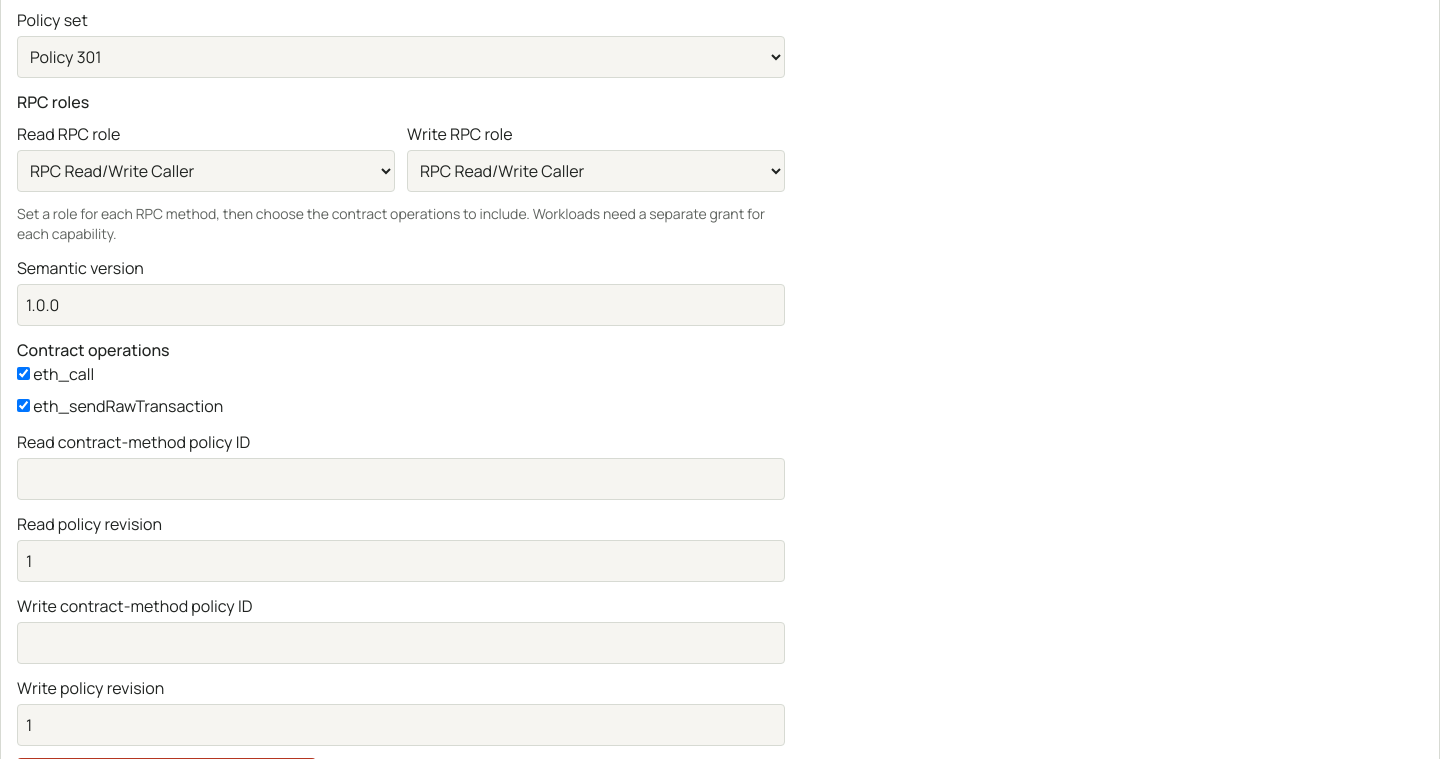
Scenario: creates a eth_call policy without fields for the unselected method
(page scrolled)
Click the checkbox labelled "eth_sendRawTransaction".
click(24, 406)  # box [17, 399, 30, 412]
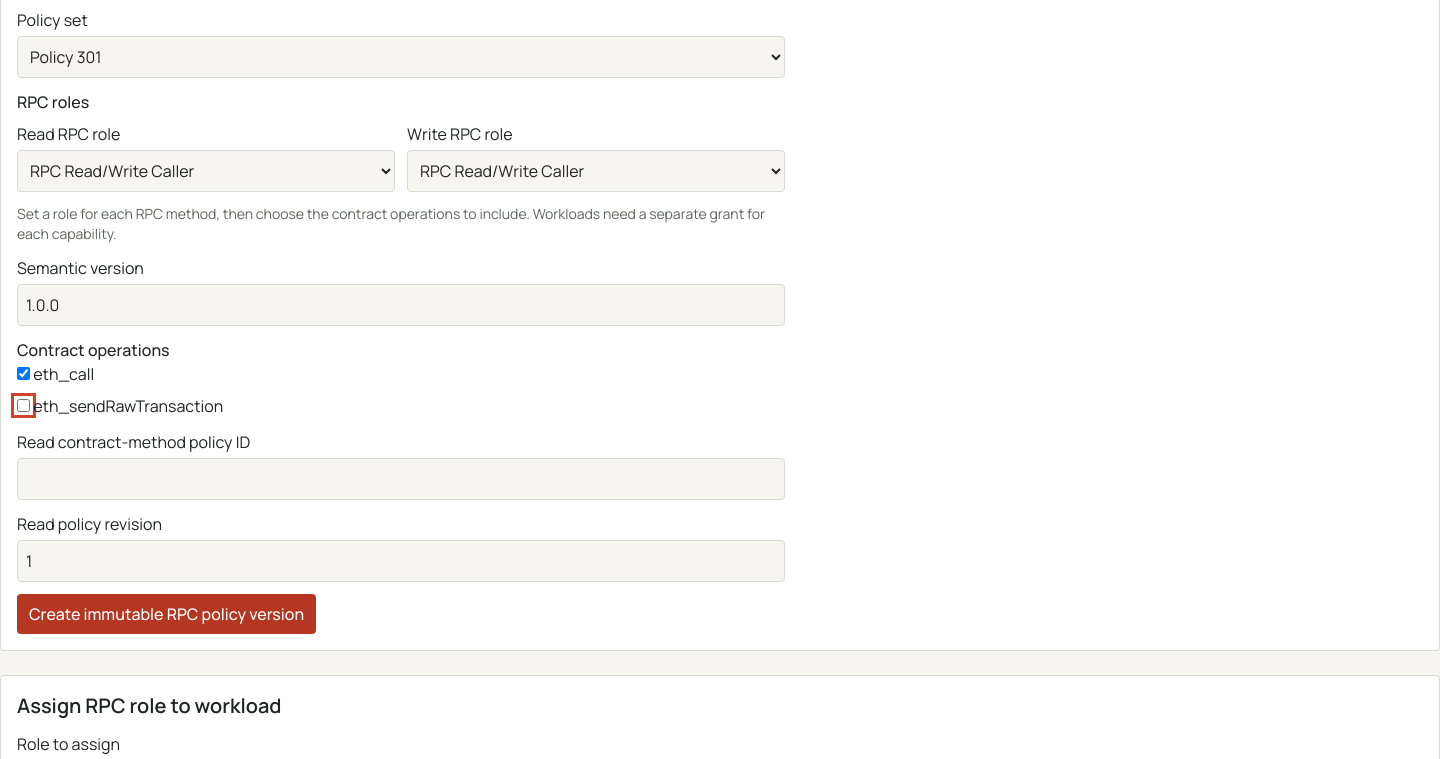
Expected: the form named "Write contract-method policy ID" is disabled, [17, 8, 785, 634]
Expected: the label labelled "Write contract-method policy ID" is gone
Type "018f0000-0000-7000-8000-000000000701" into the field labelled "Read contract-method policy ID".
click(401, 479); type("018f0000-0000-7000-8000-000000000701")  # box [17, 458, 785, 500]
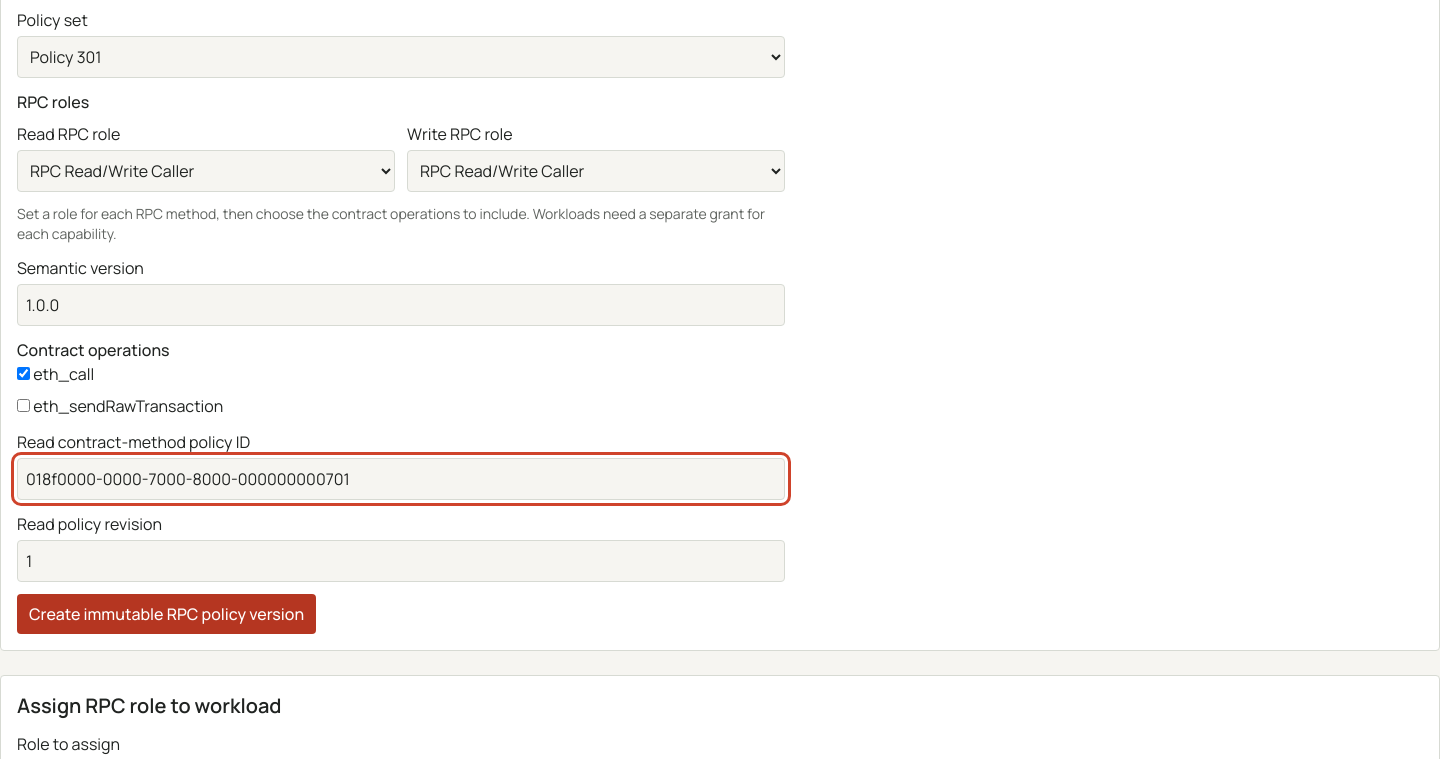
Click the button "Create immutable RPC policy version".
click(167, 614)  # box [17, 594, 316, 634]
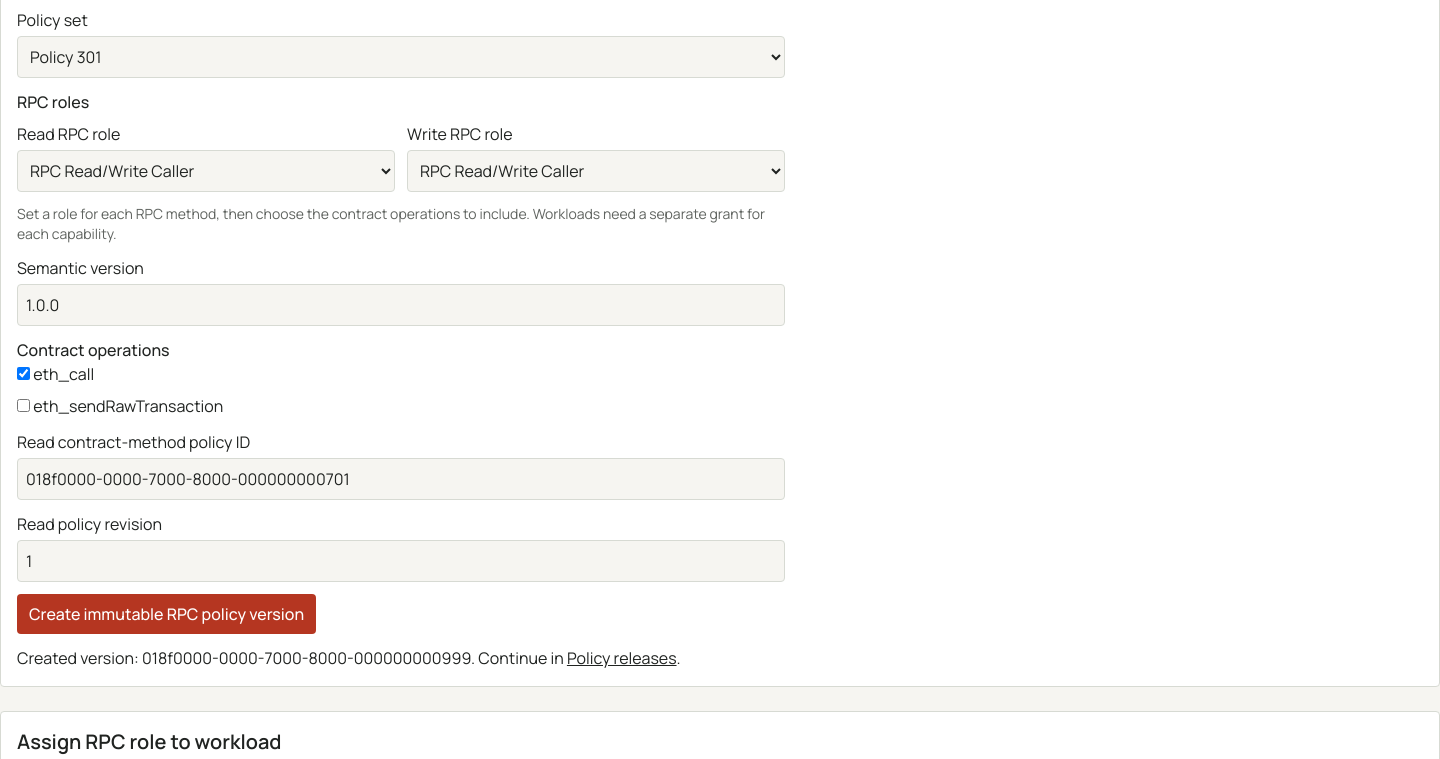
Expected: the text "Created version:" is shown, [17, 647, 142, 669]
